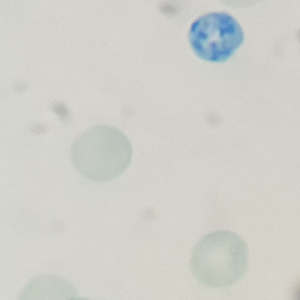aggregate reticulocyte: (187, 10, 248, 64)
erythrocyte: (68, 123, 135, 185), (189, 227, 251, 289)
